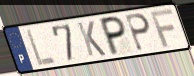7: (50, 22, 74, 63)
F: (149, 8, 176, 48)
K: (75, 20, 108, 58)
L: (24, 27, 58, 68)
P: (99, 14, 128, 58), (124, 12, 153, 52)
